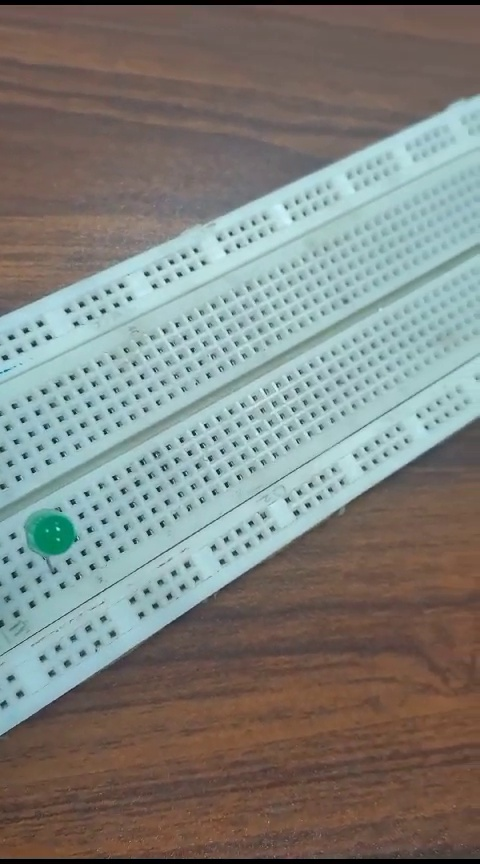LED: (23, 504, 78, 576)
